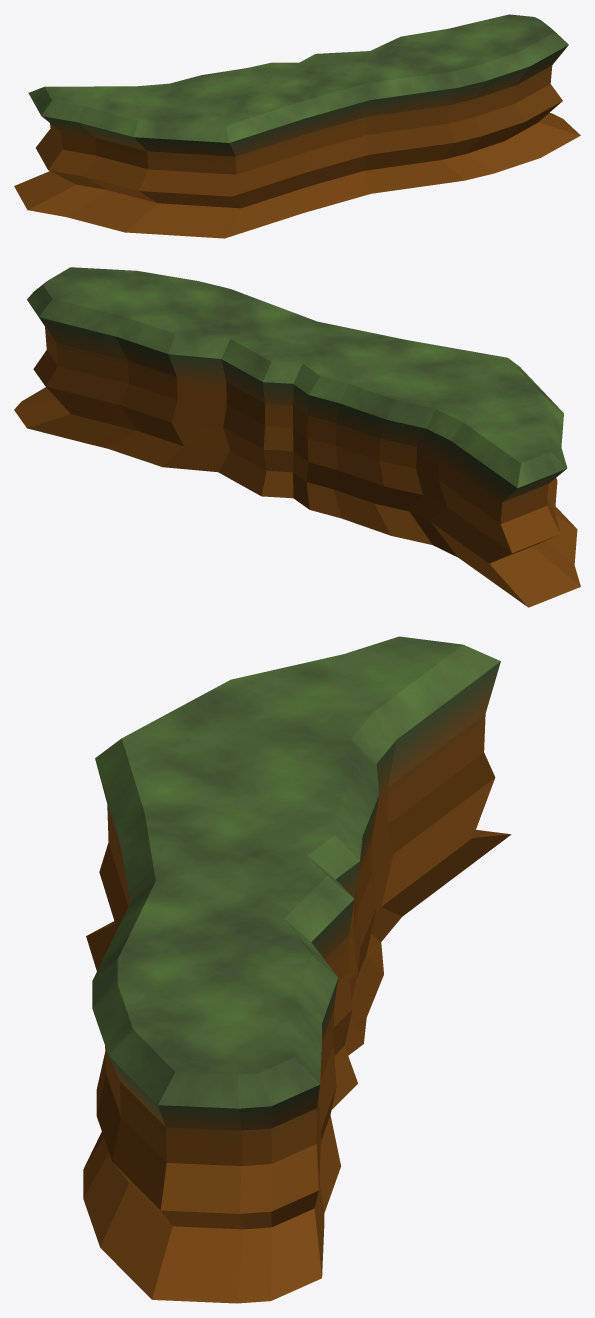
The model's file is E5_Terreno_Lvl1_T.fbx.
3 views of the same model, one above another, from view 1: azimuth 30°, elevation 25°; view 2: azimuth 150°, elevation 25°; view 3: azimuth 270°, elevation 25° (orthographic). The views are drawn at different scales.
Parts seen in each view (by area): view 1: E5_modelosBlockout_nivel1; view 2: E5_modelosBlockout_nivel1; view 3: E5_modelosBlockout_nivel1.
Boxes of the visible parts, x1,y1,x2,y2 form: E5_modelosBlockout_nivel1: [14, 14, 580, 238]; E5_modelosBlockout_nivel1: [14, 267, 580, 607]; E5_modelosBlockout_nivel1: [83, 636, 511, 1303].
Size of the model in its own units: 14339 by 2871 by 5373.
